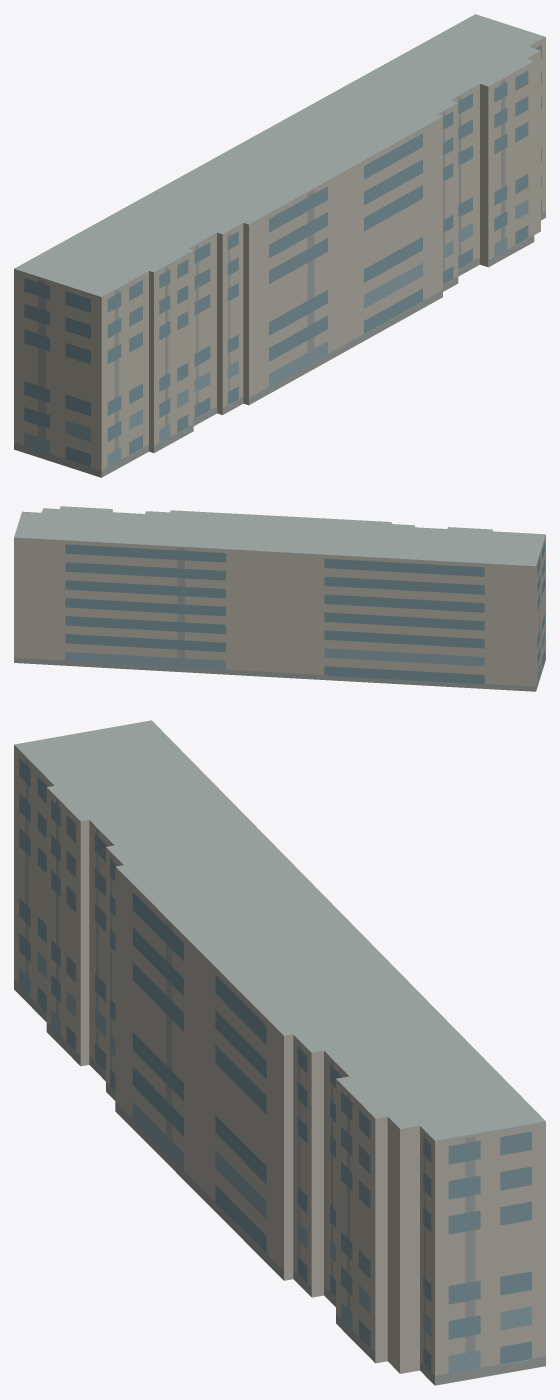
Rendered from residential-f814acc5-16a5-4746-8263-d3de9175bd4e.glb.
The picture shows the model from 3 angles, top to bottom: view 1: azimuth 30°, elevation 25°; view 2: azimuth 150°, elevation 25°; view 3: azimuth 270°, elevation 25°; orthographic projection. The views are drawn at different scales.
Parts seen in each view (by area): view 1: residential-f814acc5-16a5-4746-8263-d3de9175bd4e.tmp; view 2: residential-f814acc5-16a5-4746-8263-d3de9175bd4e.tmp; view 3: residential-f814acc5-16a5-4746-8263-d3de9175bd4e.tmp.
Boxes of the visible parts, x1,y1,x2,y2 form: residential-f814acc5-16a5-4746-8263-d3de9175bd4e.tmp: (14,14,545,477); residential-f814acc5-16a5-4746-8263-d3de9175bd4e.tmp: (14,506,545,691); residential-f814acc5-16a5-4746-8263-d3de9175bd4e.tmp: (14,720,545,1385).
Bounding box in the file's own units: 78.65 × 21.35 × 42.05.
